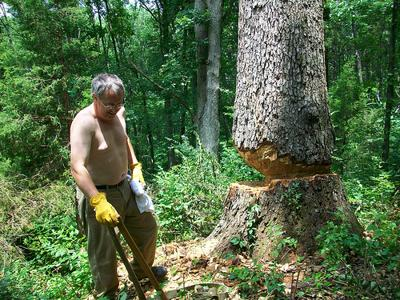person: (68, 74, 166, 300)
